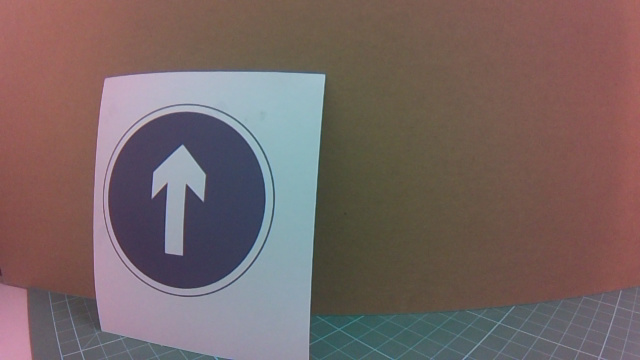forward: (118, 92, 301, 298)
